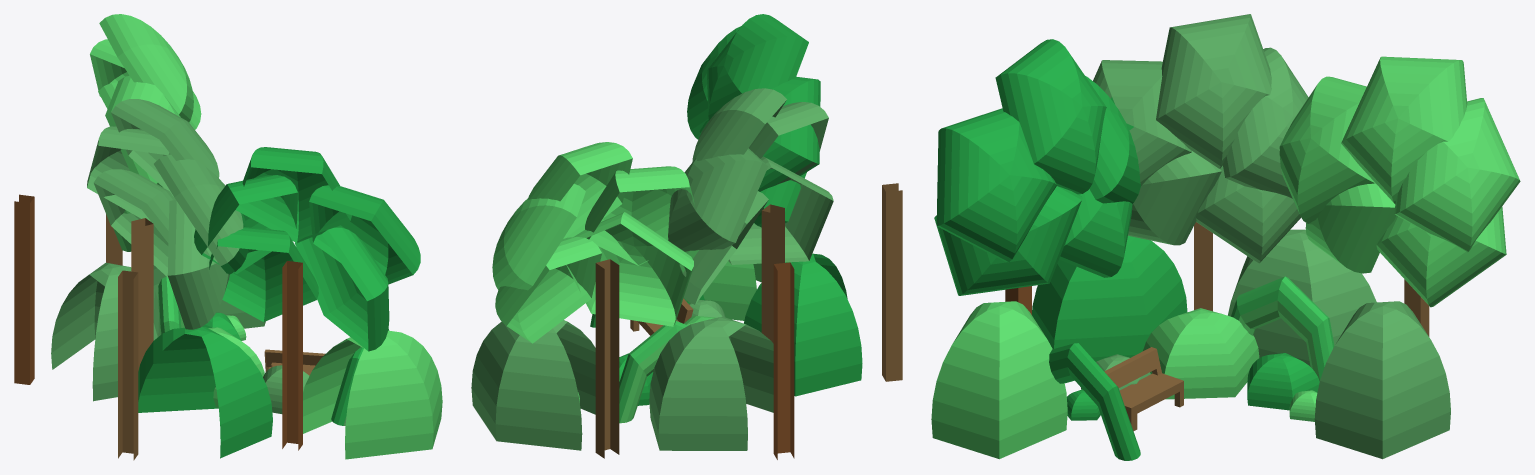
Rendered from Garden.fbx.
The picture shows the model from 3 angles, left to right: view 1: azimuth 30°, elevation 25°; view 2: azimuth 150°, elevation 25°; view 3: azimuth 270°, elevation 25°; orthographic projection. The views are drawn at different scales.
Visible parts, largest first — view 1: Cube.004; view 2: Cube.004; view 3: Cube.004.
Part boxes in pixels (bbox=[...]): Cube.004: bbox=[14, 14, 442, 460]; Cube.004: bbox=[471, 14, 902, 459]; Cube.004: bbox=[931, 14, 1520, 460].
Size of the model in its own units: 1840 by 1802 by 2890.
Materials: 1 (1 with a texture image).
